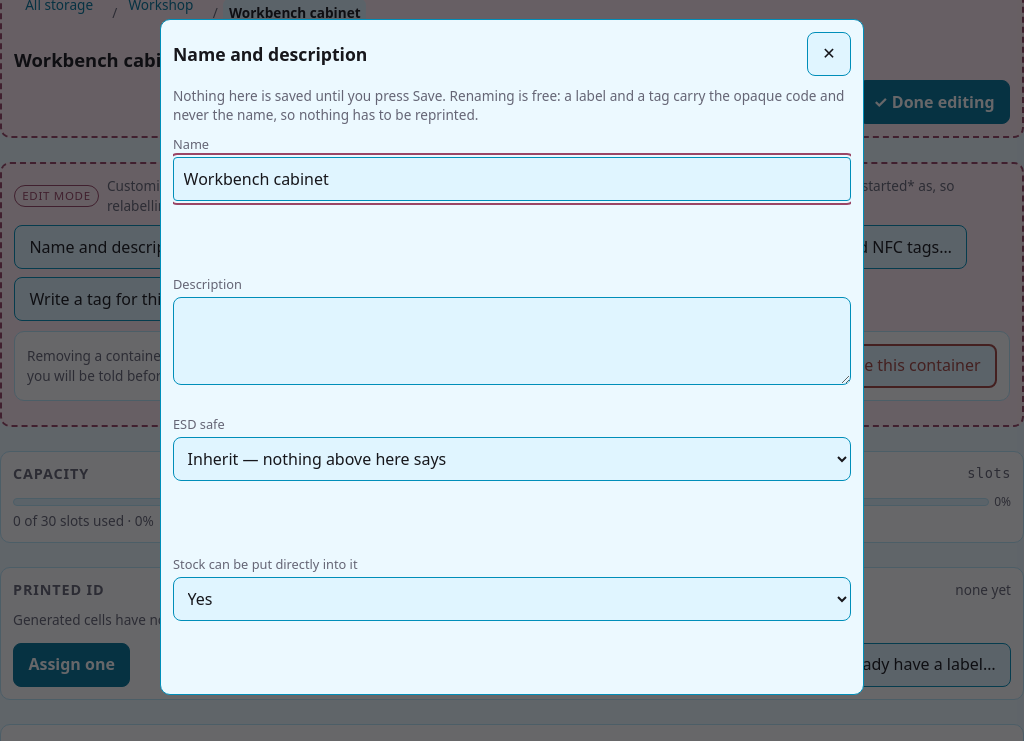
it: re-reads what is inside after a panel saves, not only the container's own row
Replace the text in the field labelled "Name" with "Workbench cabinet, west": (512, 179) [173,157,851,201]
(page scrolled)
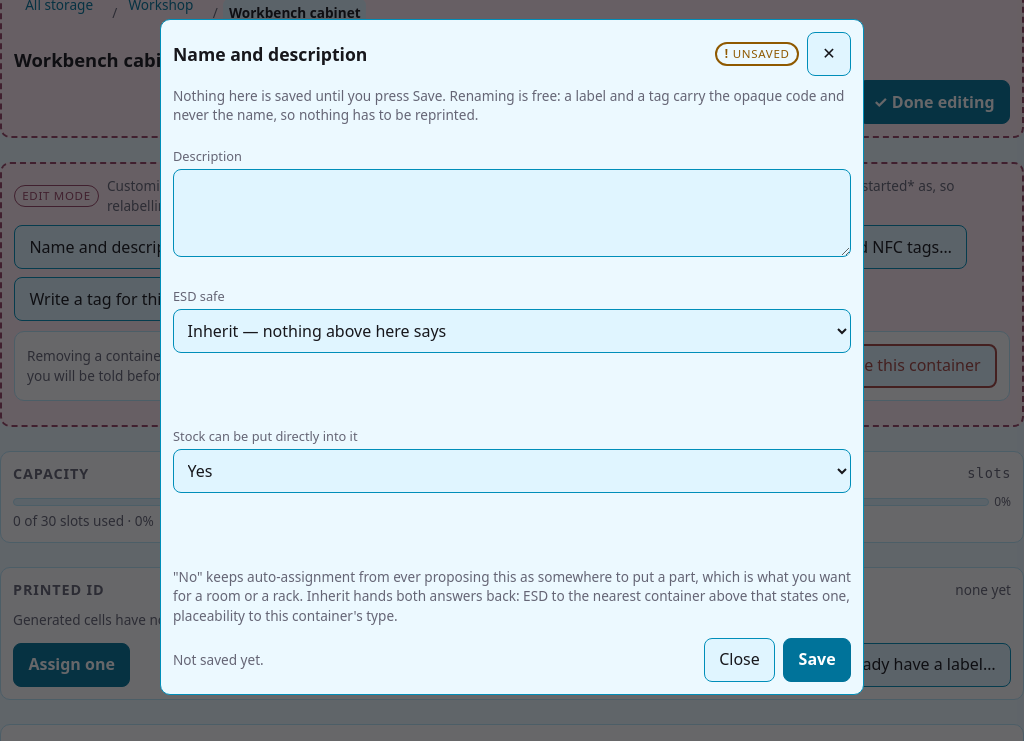
Click the button "Save": (817, 660) [783,638,851,682]
(page scrolled)
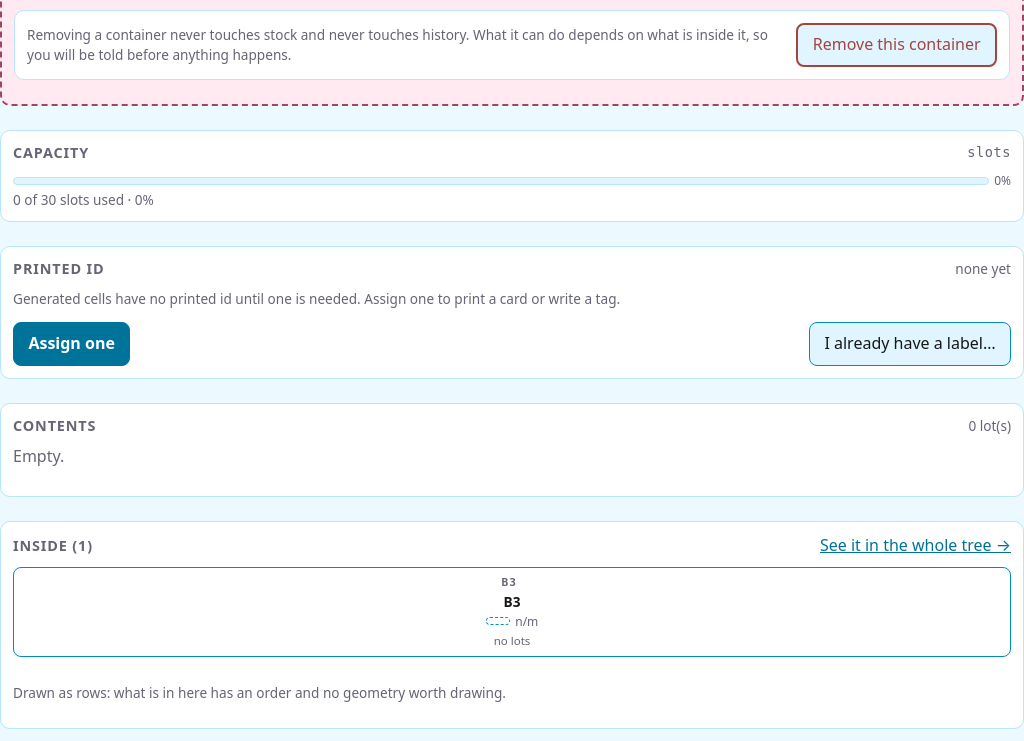
Check: the link "B3 B3 n/m no lots" is shown, box [13,567,1011,657]
